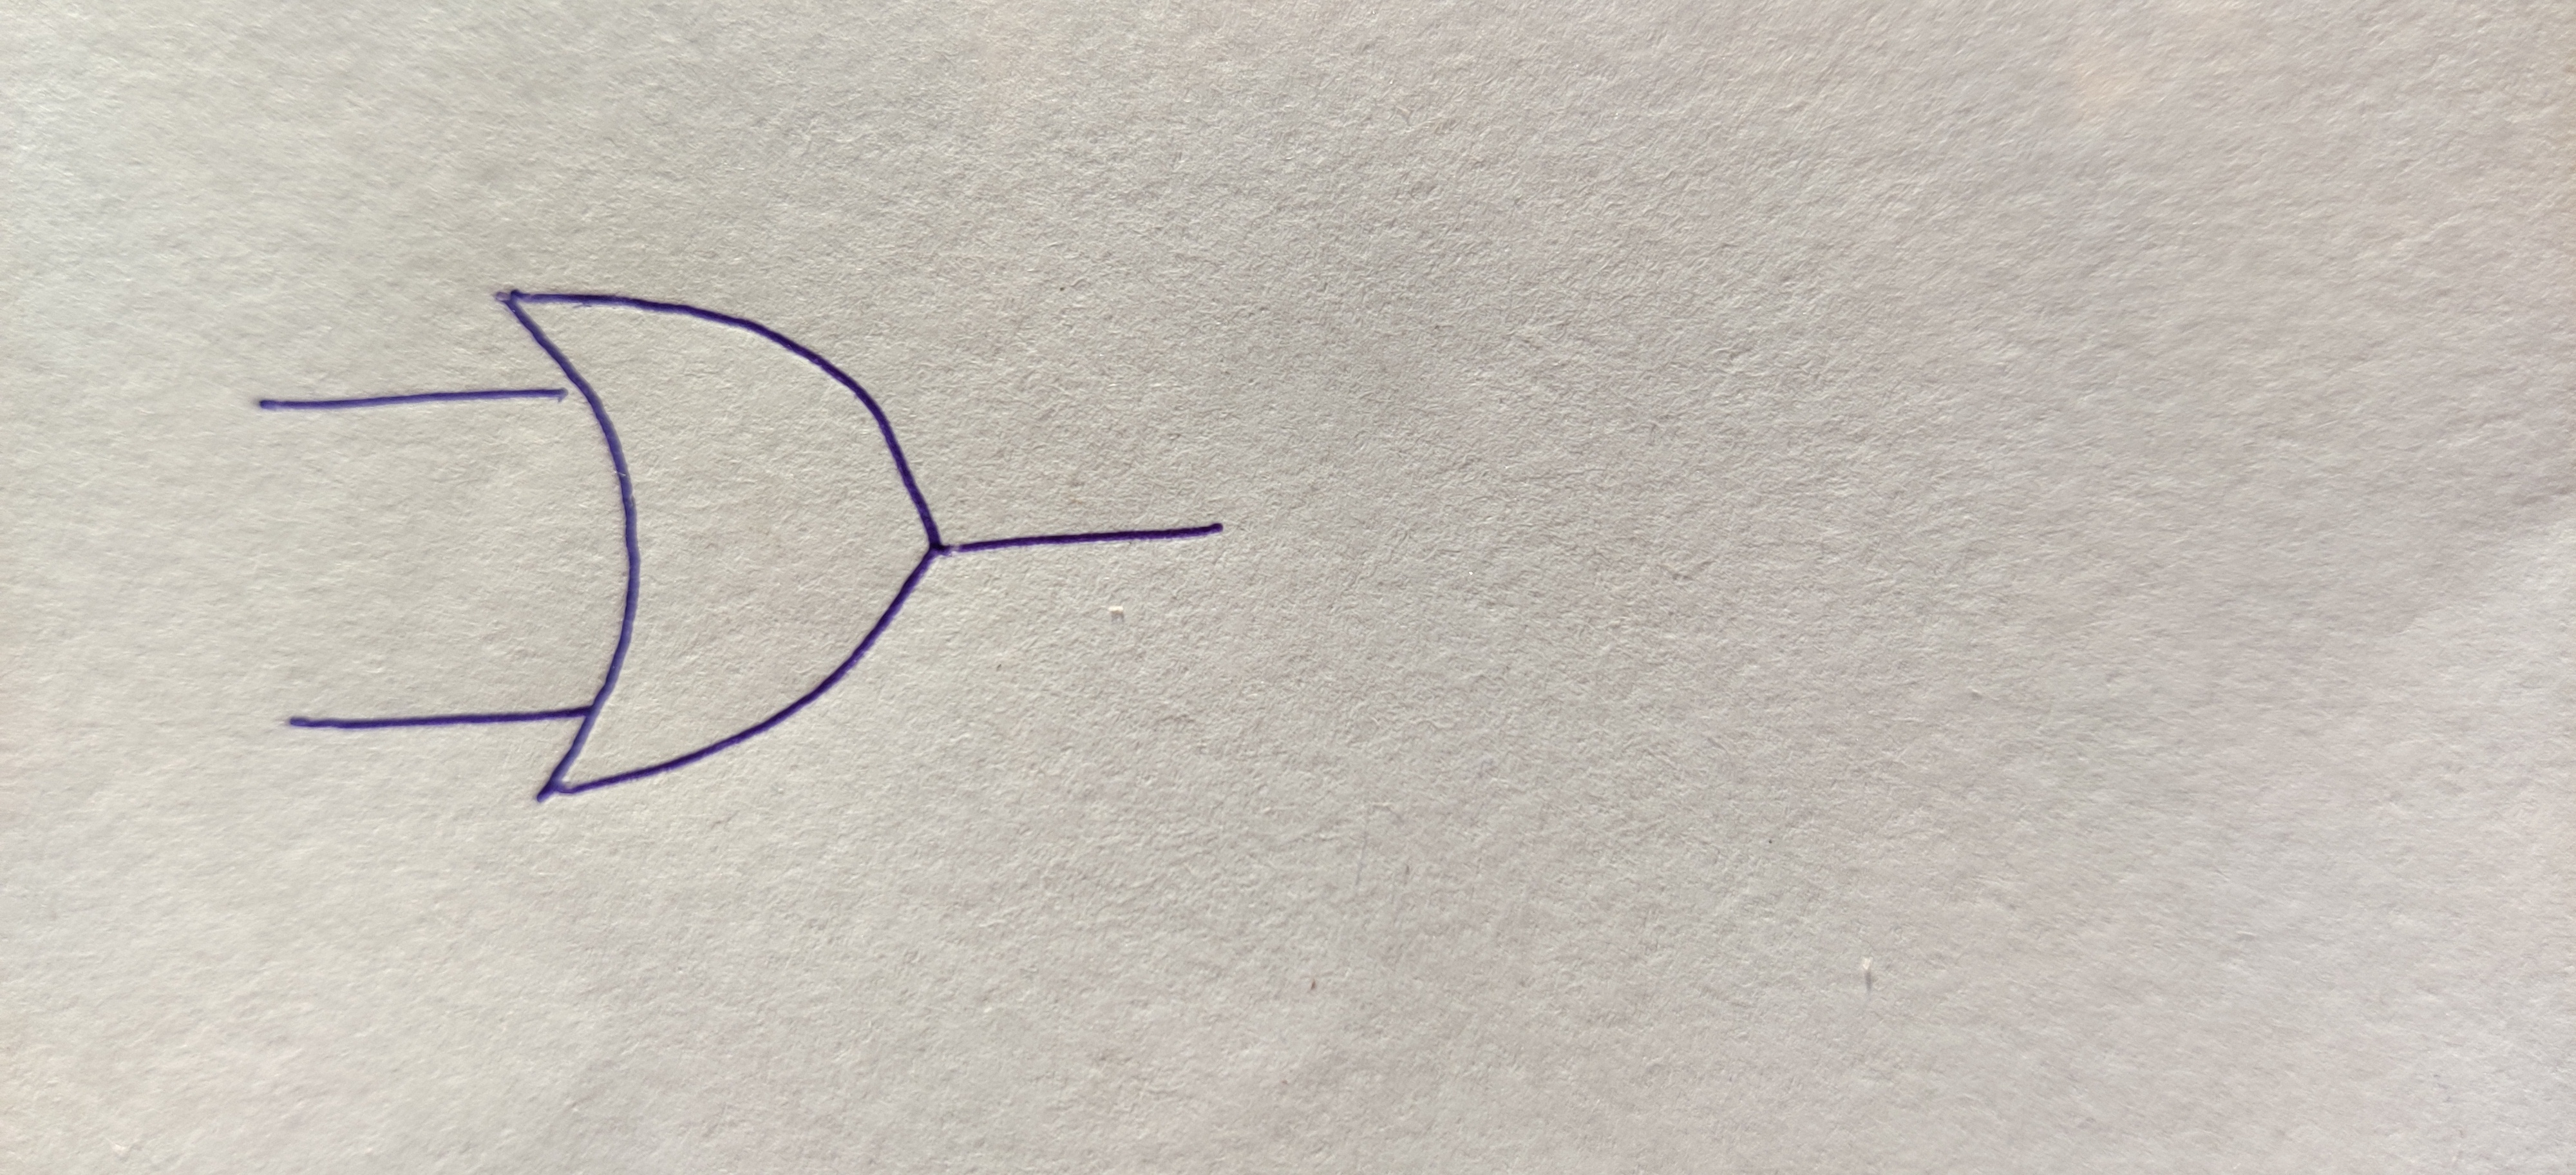or: (498, 289, 938, 795)
